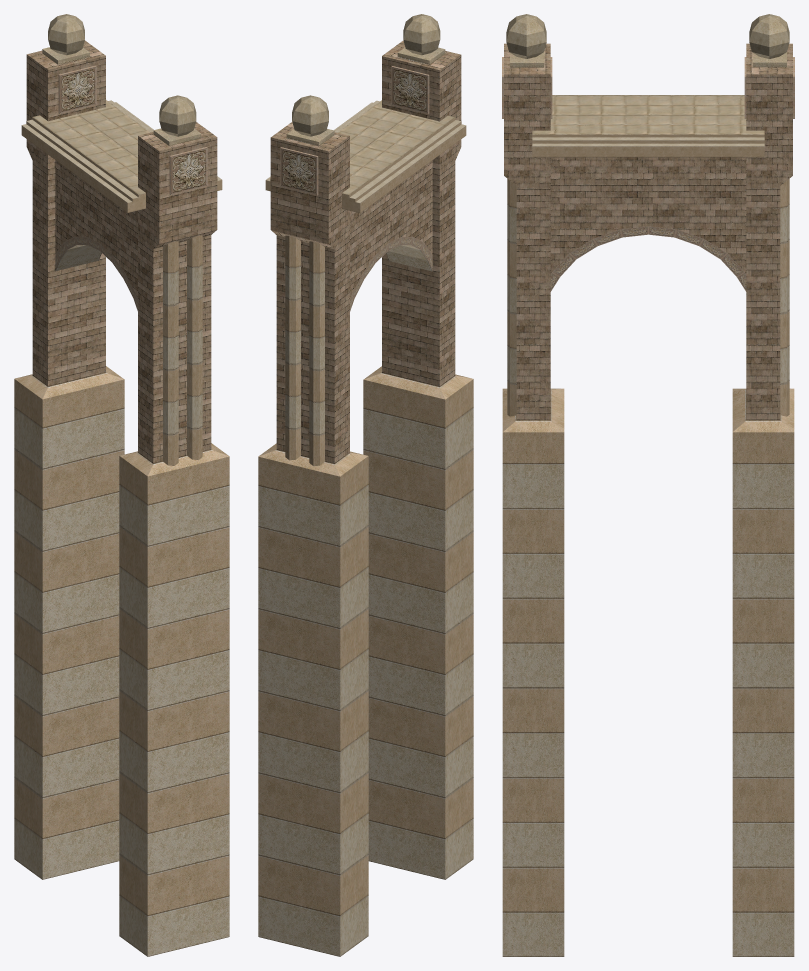
Rendered from thm_nboo_imprv_elevated_walkway_cap_s01_l0.fbx.
3 renders of one model, left to right at view 1: azimuth 30°, elevation 25°; view 2: azimuth 150°, elevation 25°; view 3: azimuth 270°, elevation 25°, orthographic. The views are drawn at different scales.
Parts seen in each view (by area): view 1: mesh_node; view 2: mesh_node; view 3: mesh_node.
Boxes of the visible parts, <box> form: mesh_node: <box>14,14,229,956</box>; mesh_node: <box>258,14,473,956</box>; mesh_node: <box>502,14,794,956</box>.
Bounding box in the file's own units: 2.56 × 21.74 × 6.28.
